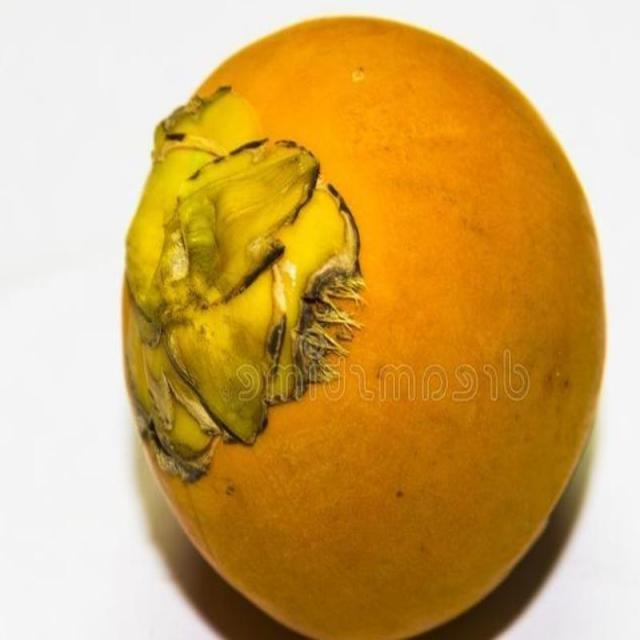good: (124, 15, 610, 639)
